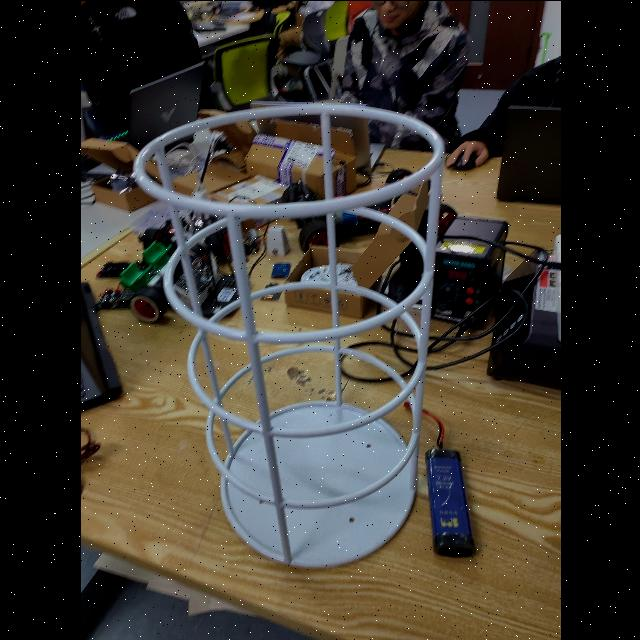S: (128, 94, 450, 574)
